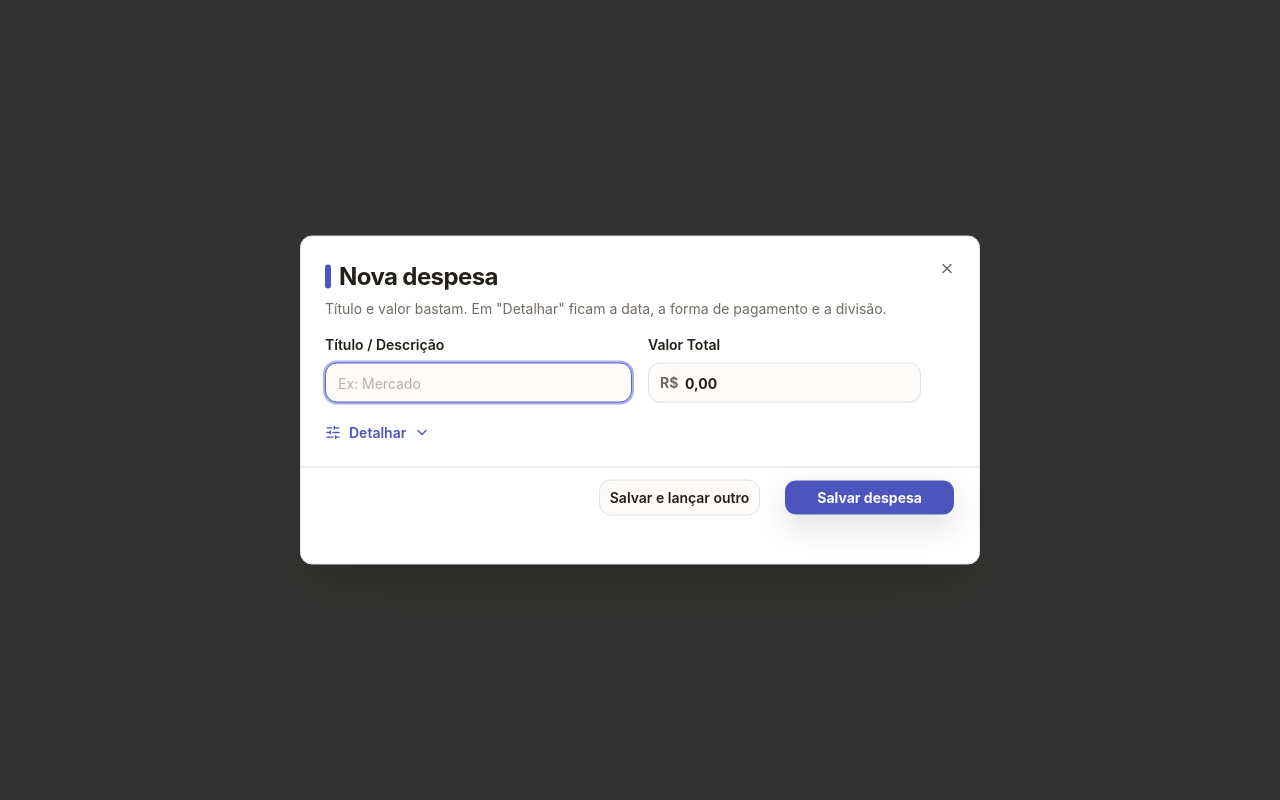
Nova despesa — categoria, tags, observação e divisão › a divisão detalhada tem nome próprio, e na divisão por item a categoria vai em cada item
Click the button "Detalhar". click: [378, 432]
box: [325,422,430,442]
(page scrolled)
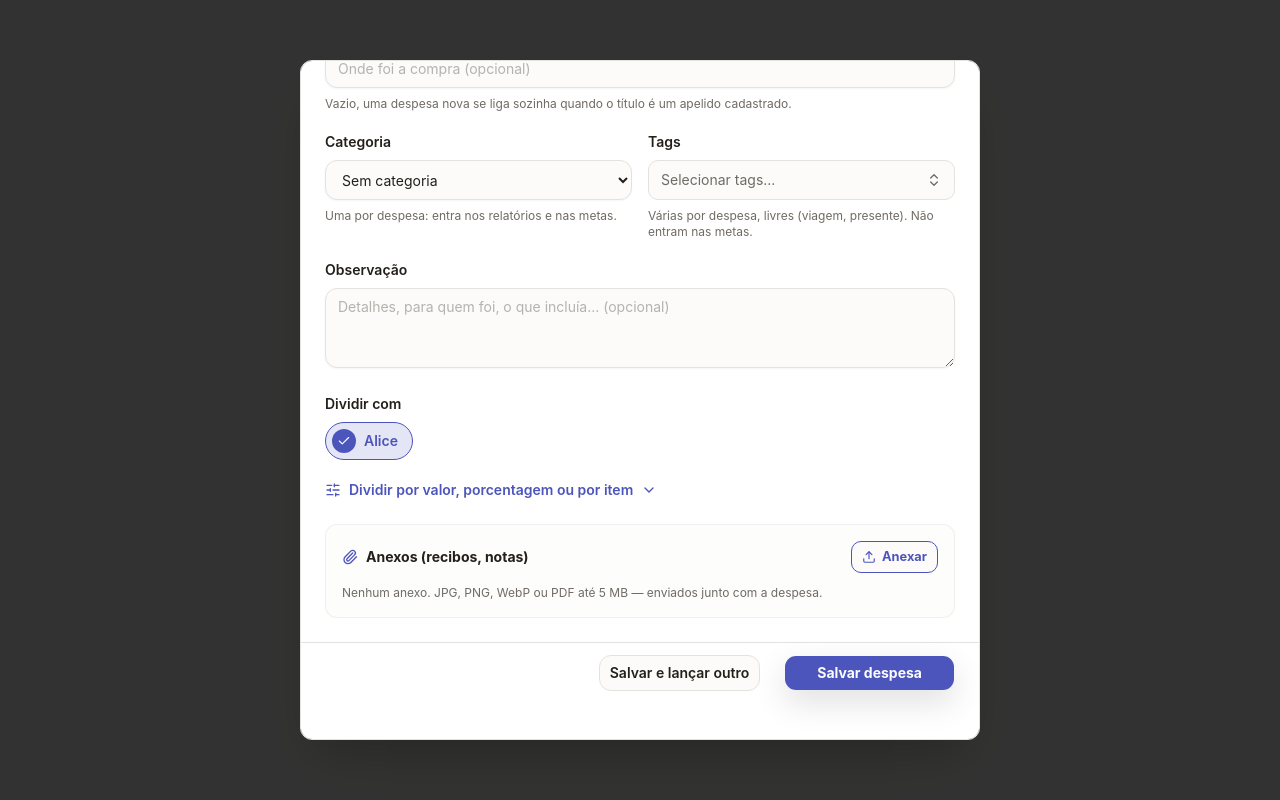
Click the button "Dividir por valor, porcentagem ou por item". click: [491, 490]
box: [325,480,657,500]
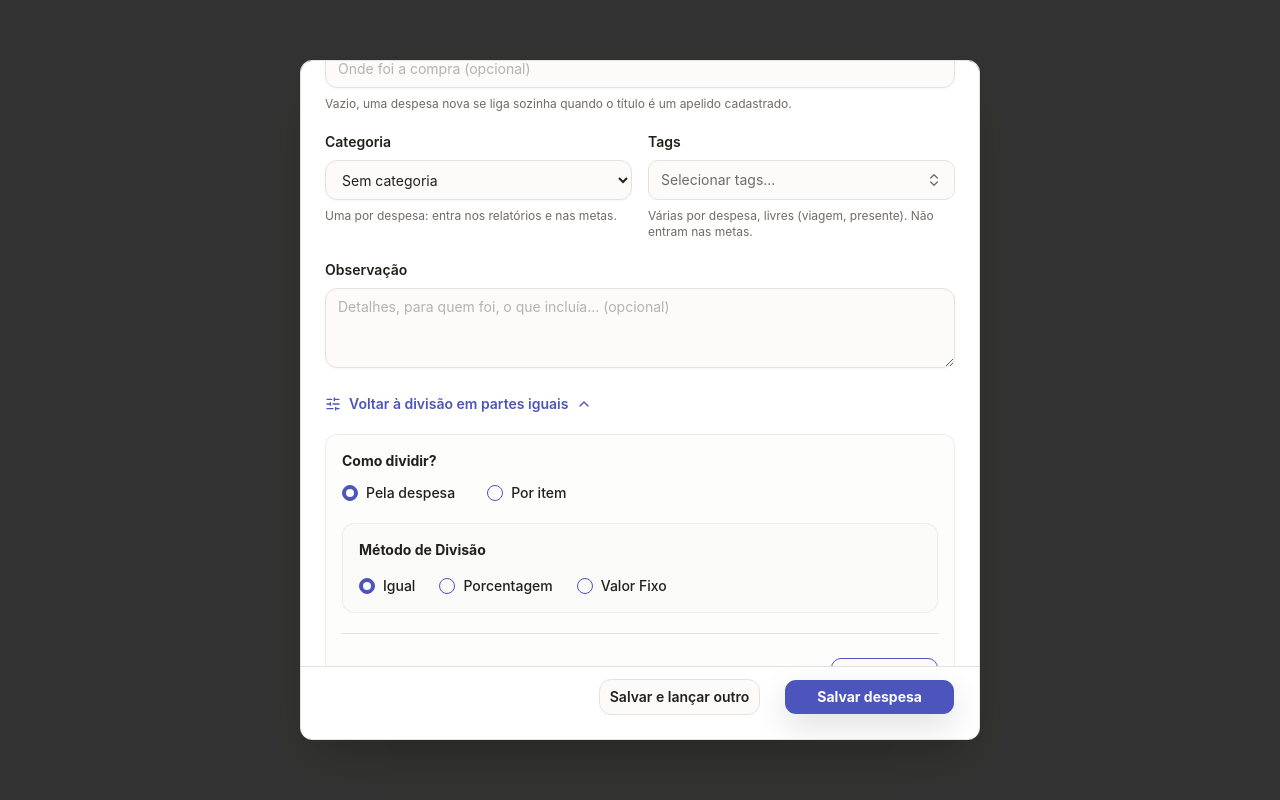
Check: the button "Voltar à divisão em partes iguais" is expanded, box [325,394,592,414]
Click the radio button named "Por item" next to "Por item". click: [495, 493]
box: [487,485,503,501]
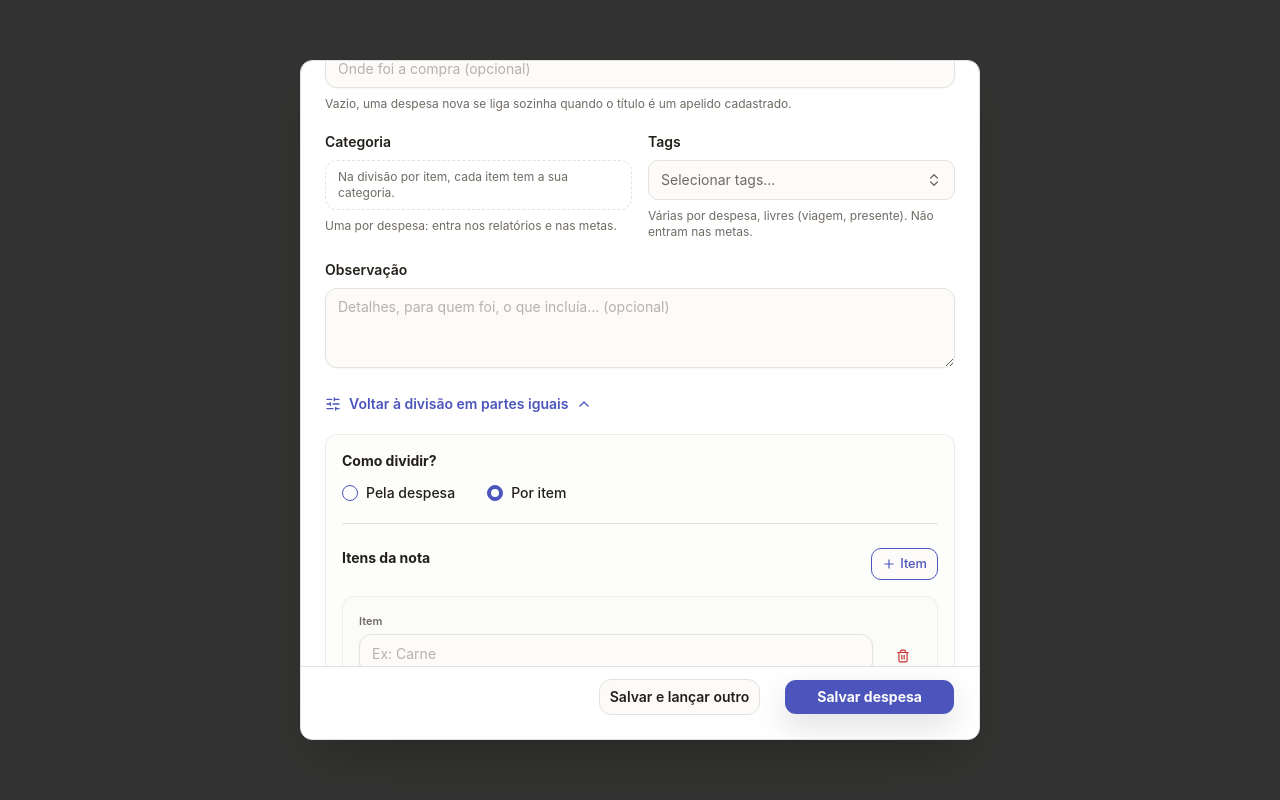
Check: the text "Na divisão por item, cada item tem a sua categoria." is shown, box [325,160,632,210]
